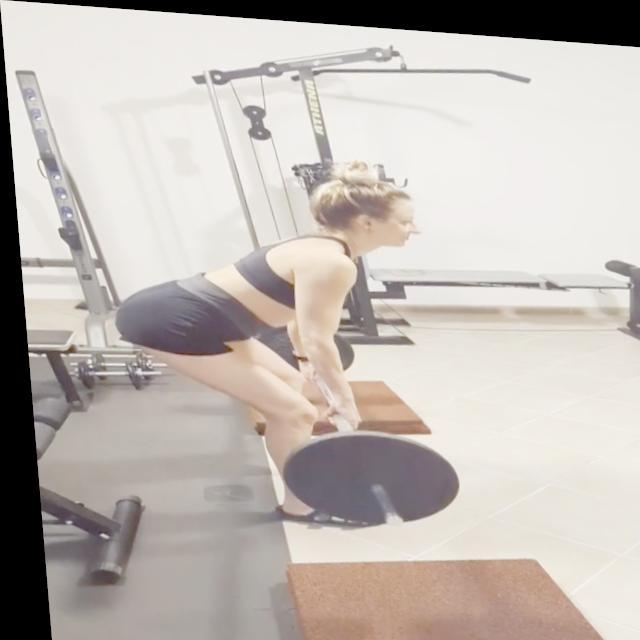barbell: (270, 419, 458, 532)
